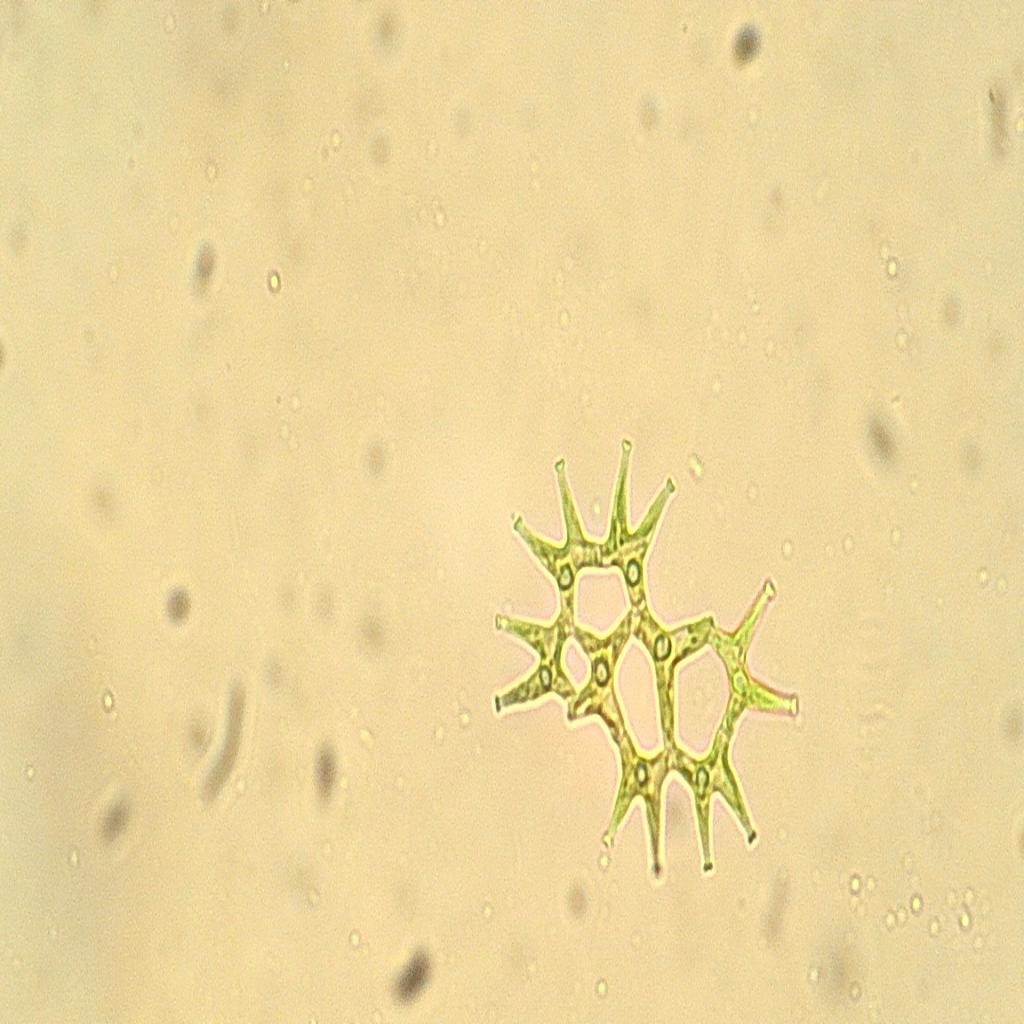Pediastrum_CFI: (483, 421, 816, 906)
